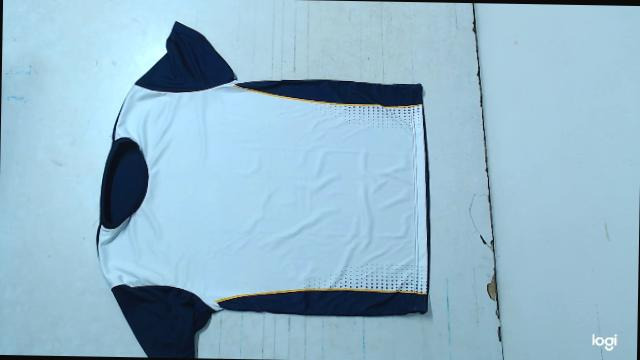new-garment: (97, 22, 430, 357)
